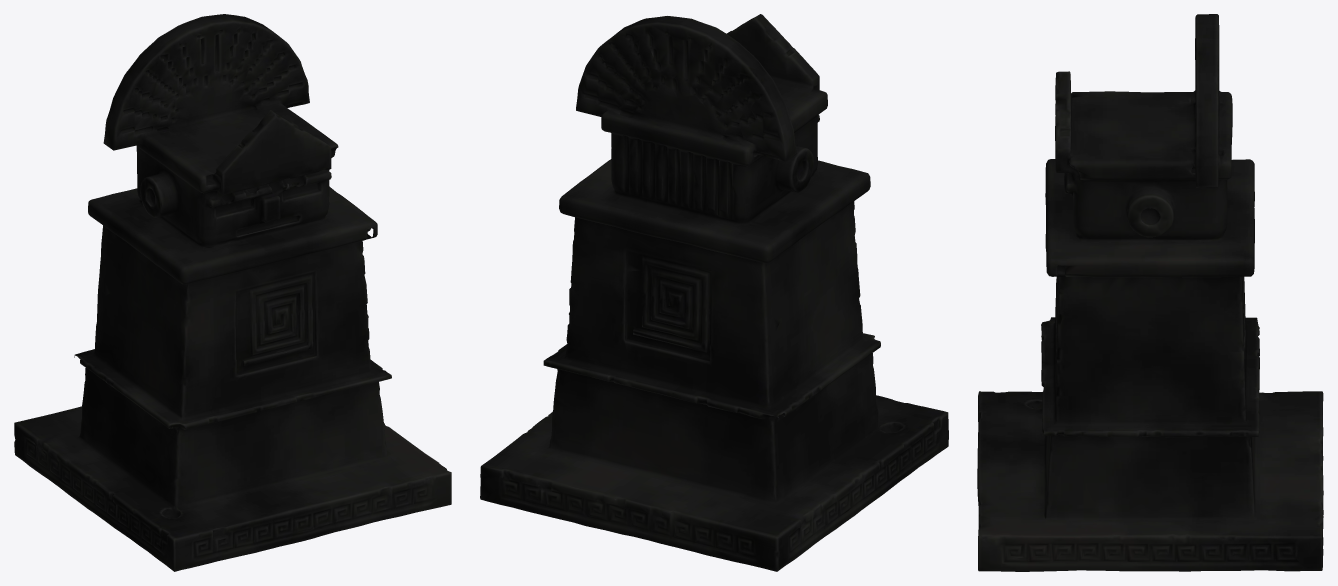
File: king-basalt.glb
The picture shows the model from 3 angles, left to right: view 1: azimuth 30°, elevation 25°; view 2: azimuth 150°, elevation 25°; view 3: azimuth 270°, elevation 25°; orthographic projection. The views are drawn at different scales.
Parts seen in each view (by area): view 1: king; view 2: king; view 3: king.
Part boxes in pixels (<box>): king: <box>14,14,451,571</box>; king: <box>480,14,948,571</box>; king: <box>977,14,1323,571</box>.
Bounding box in the file's own units: 0.7628 × 1.15 × 0.7632.
Materials: 1 (1 with a texture image).
